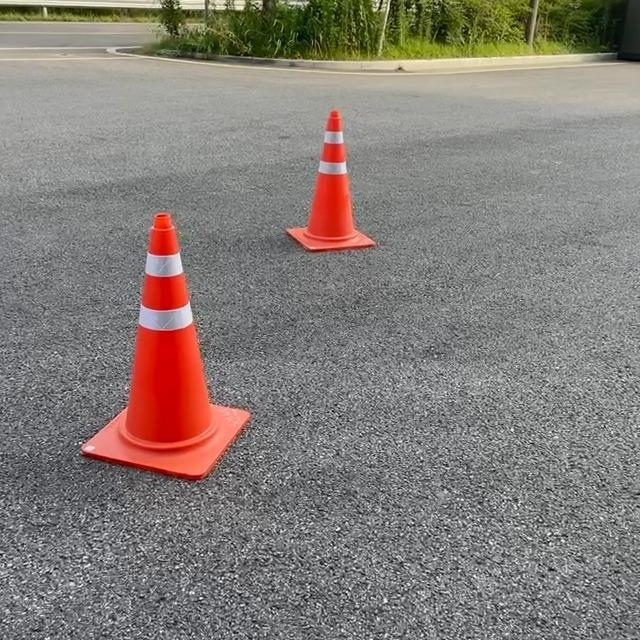fallen_object: (106, 227, 306, 518), (265, 116, 424, 299)
